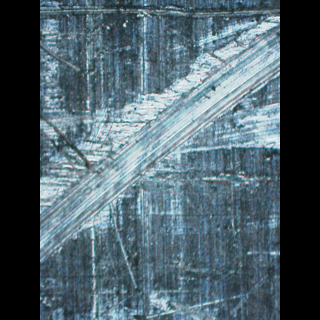d: (40, 0, 279, 269)
